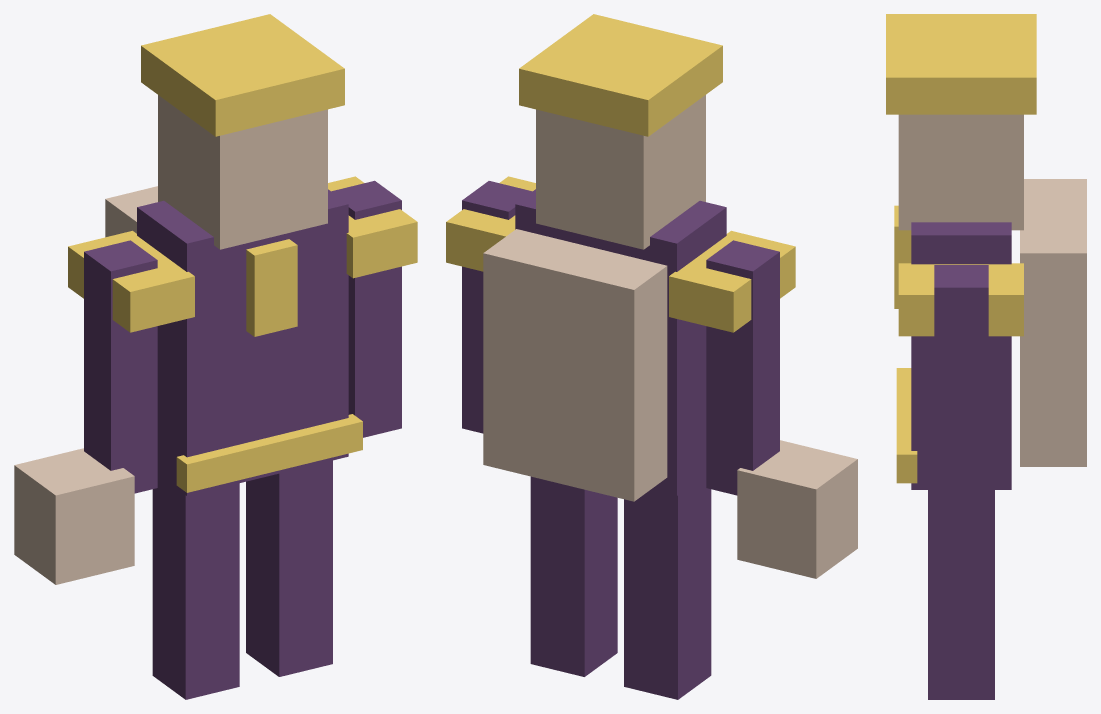
The model's file is 09_dax_riftwalker_diver_near_fracture.glb.
The picture shows the model from 3 angles, left to right: view 1: azimuth 30°, elevation 25°; view 2: azimuth 150°, elevation 25°; view 3: azimuth 270°, elevation 25°; orthographic projection.
Visible parts, largest first — view 1: Dax Riftwalker, Diver near Fracture; view 2: Dax Riftwalker, Diver near Fracture; view 3: Dax Riftwalker, Diver near Fracture.
Part boxes in pixels (<box>): Dax Riftwalker, Diver near Fracture: <box>14,14,417,699</box>; Dax Riftwalker, Diver near Fracture: <box>446,14,857,699</box>; Dax Riftwalker, Diver near Fracture: <box>886,14,1086,699</box>.
Size of the model in its own units: 0.9324 by 1.53 by 0.4498.
